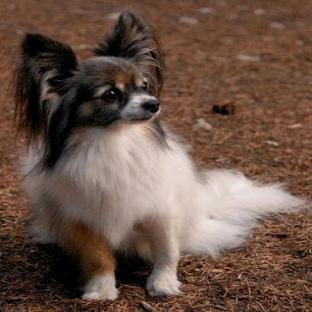Animal: (15, 13, 303, 299)
